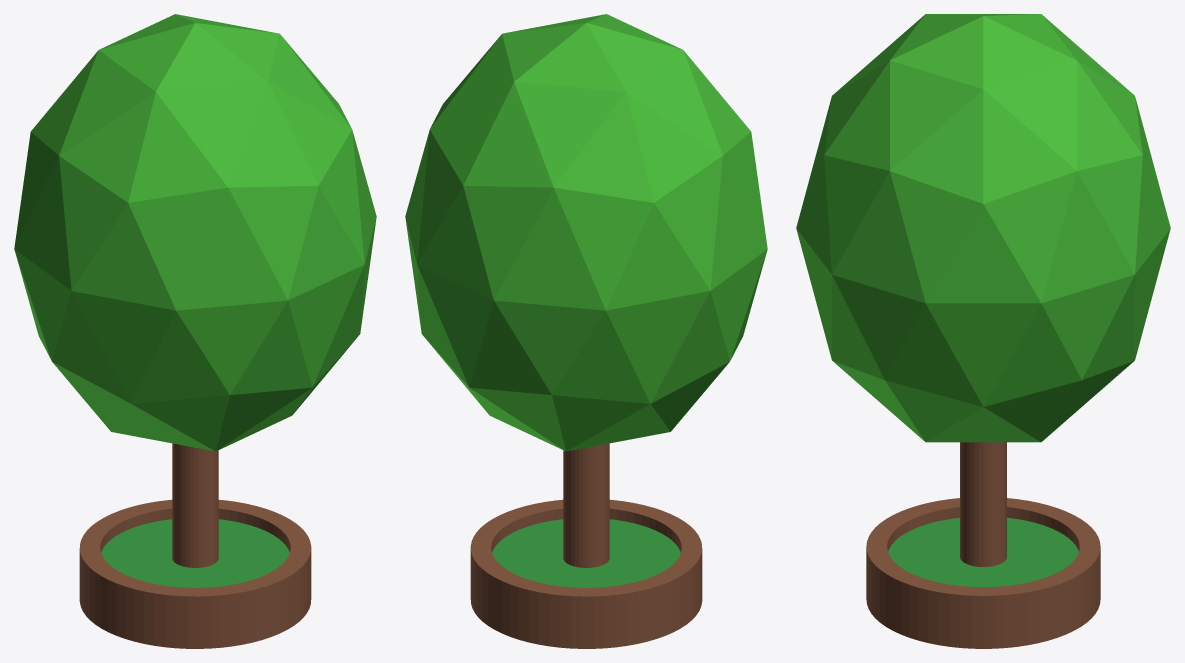
The model's file is tree_poly_with_bed.glb.
3 renders of one model, left to right at view 1: azimuth 30°, elevation 25°; view 2: azimuth 150°, elevation 25°; view 3: azimuth 270°, elevation 25°, orthographic.
Visible parts, largest first — view 1: Icosphere, Cylinder.001, Cylinder; view 2: Icosphere, Cylinder.001, Cylinder; view 3: Icosphere, Cylinder.001, Cylinder.
Part boxes in pixels (x1,y1,x2,y2): Icosphere: [14, 14, 376, 451]; Cylinder.001: [79, 499, 311, 648]; Cylinder: [172, 443, 218, 567]; Icosphere: [405, 14, 767, 451]; Cylinder.001: [470, 499, 702, 648]; Cylinder: [563, 443, 609, 567]; Icosphere: [796, 14, 1170, 442]; Cylinder.001: [866, 498, 1100, 648]; Cylinder: [960, 442, 1006, 566].
Size of the model in its own units: 6.09 by 11 by 6.4.
